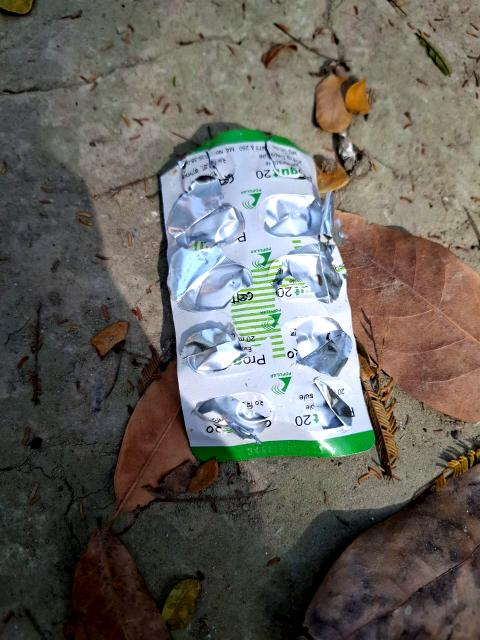medicine: (150, 139, 372, 473)
